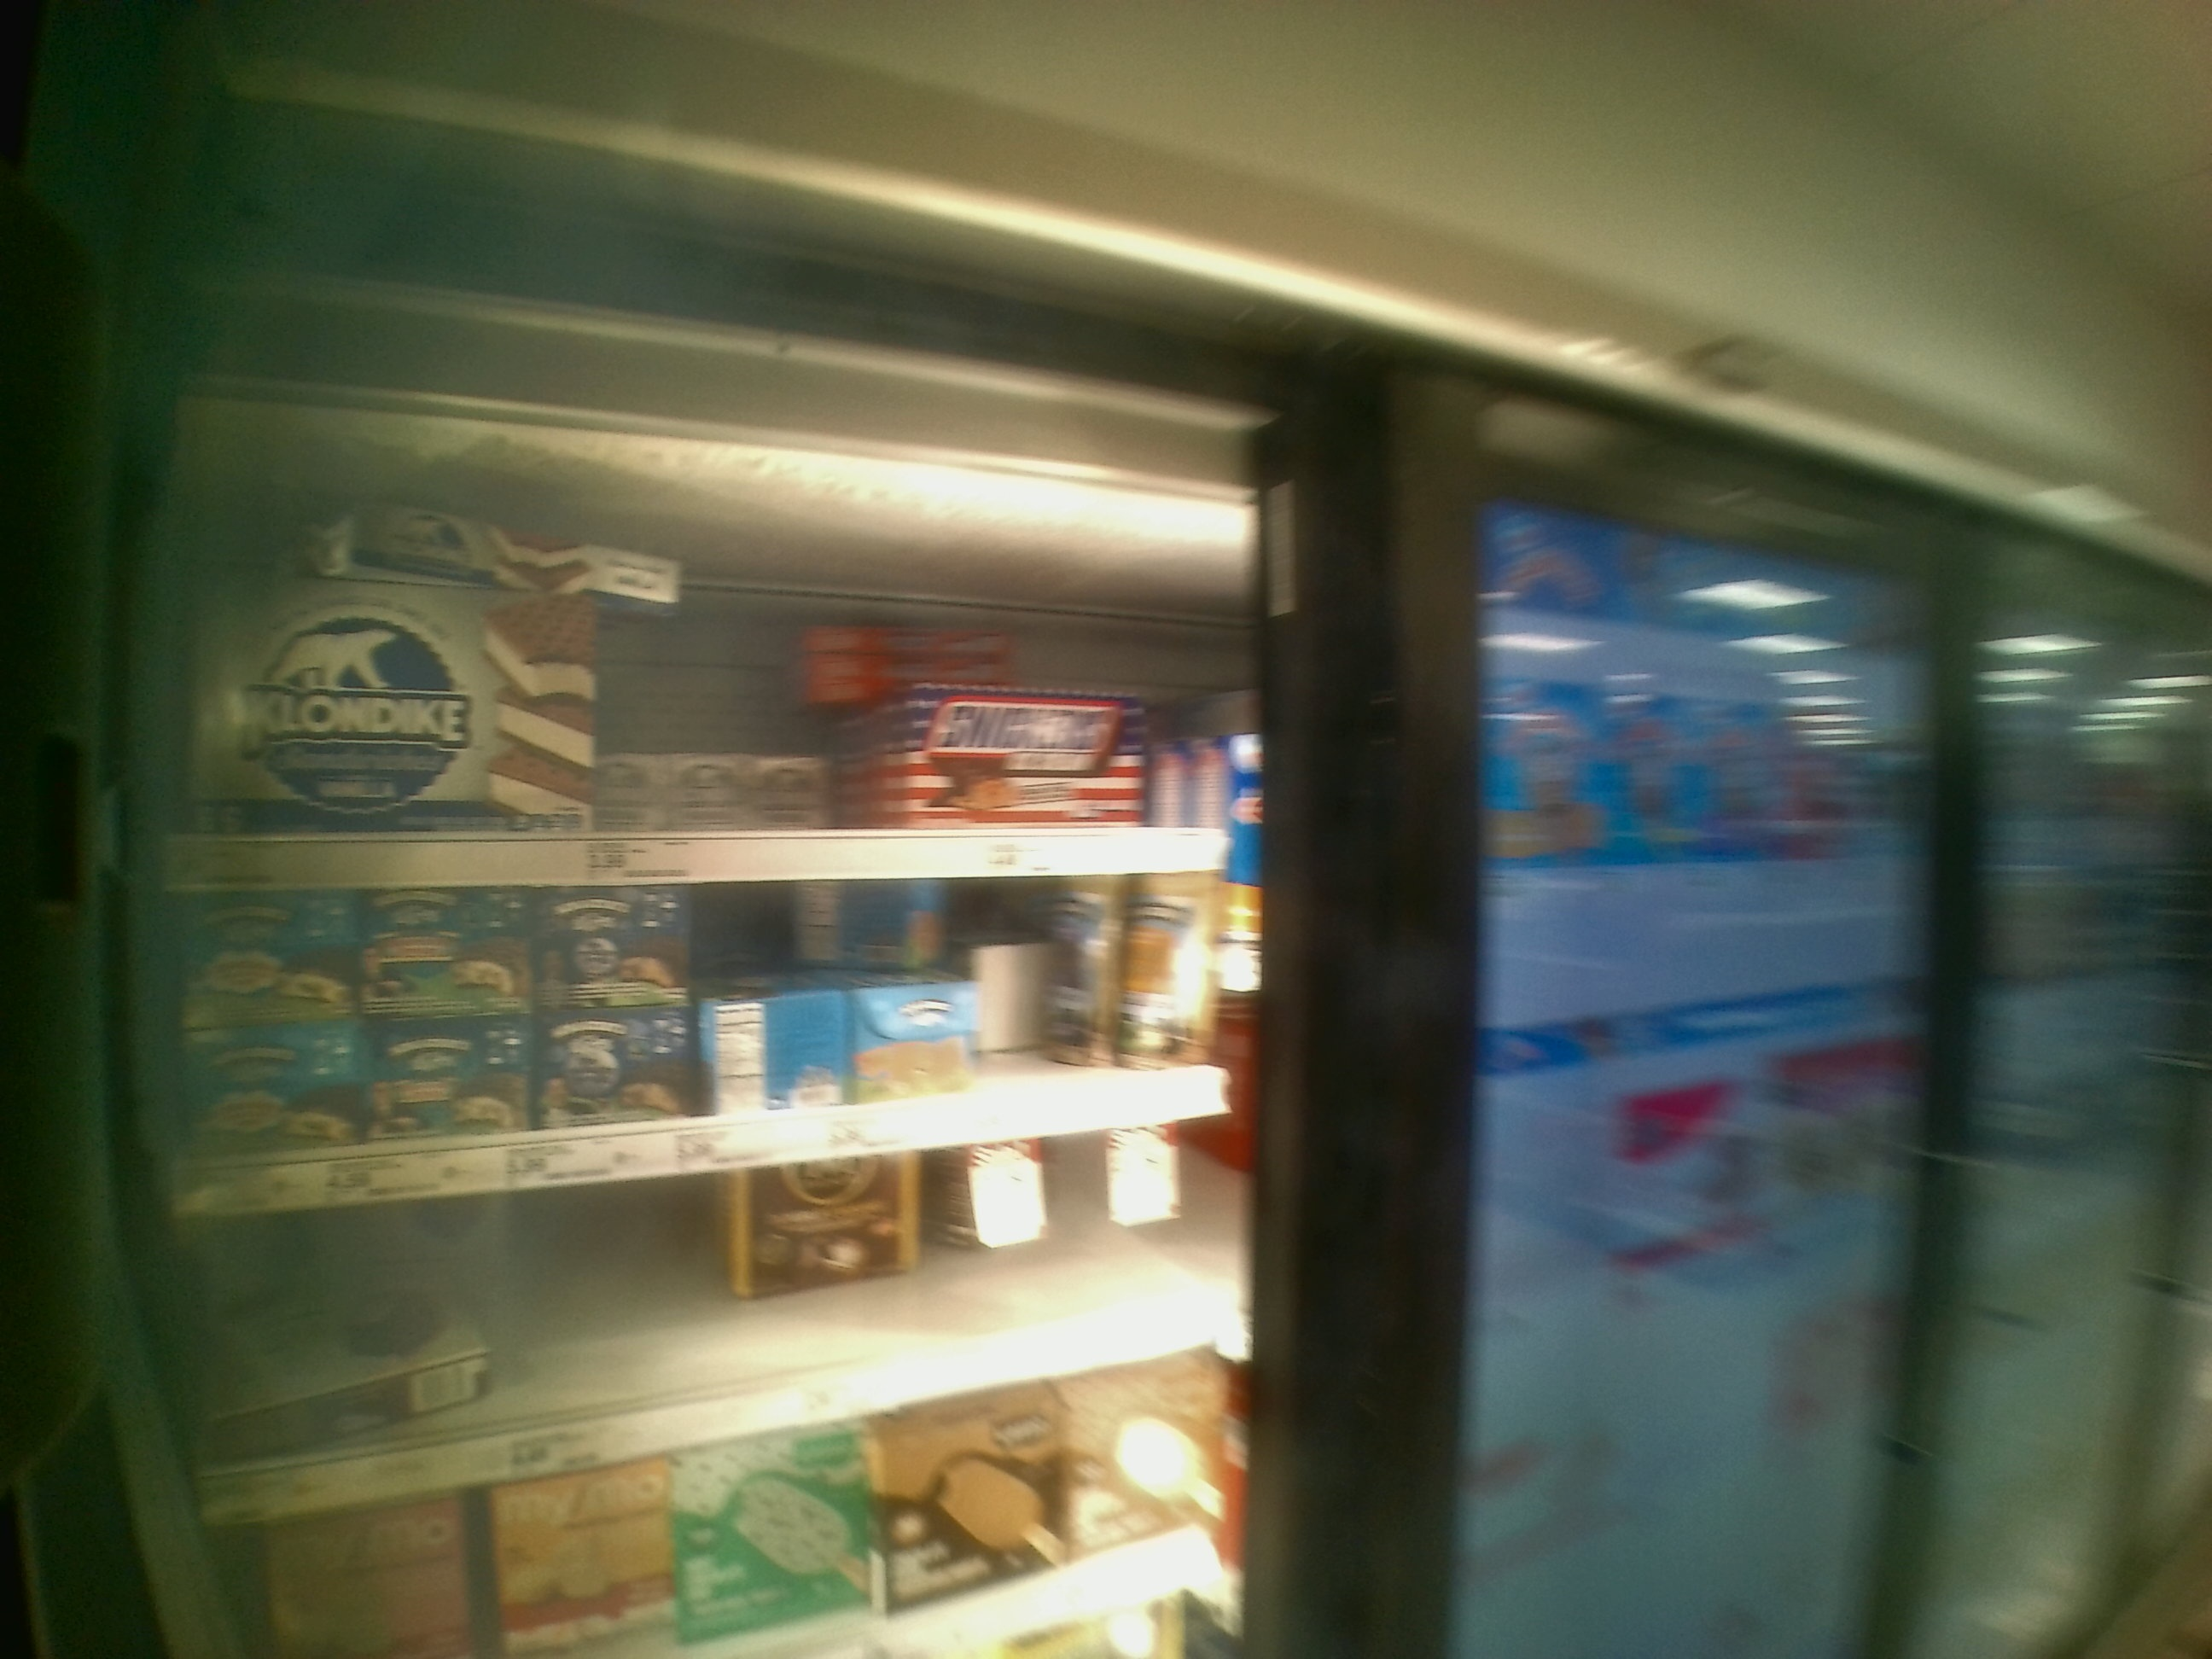shelf: (164, 465, 1308, 884), (165, 877, 1287, 1234)
